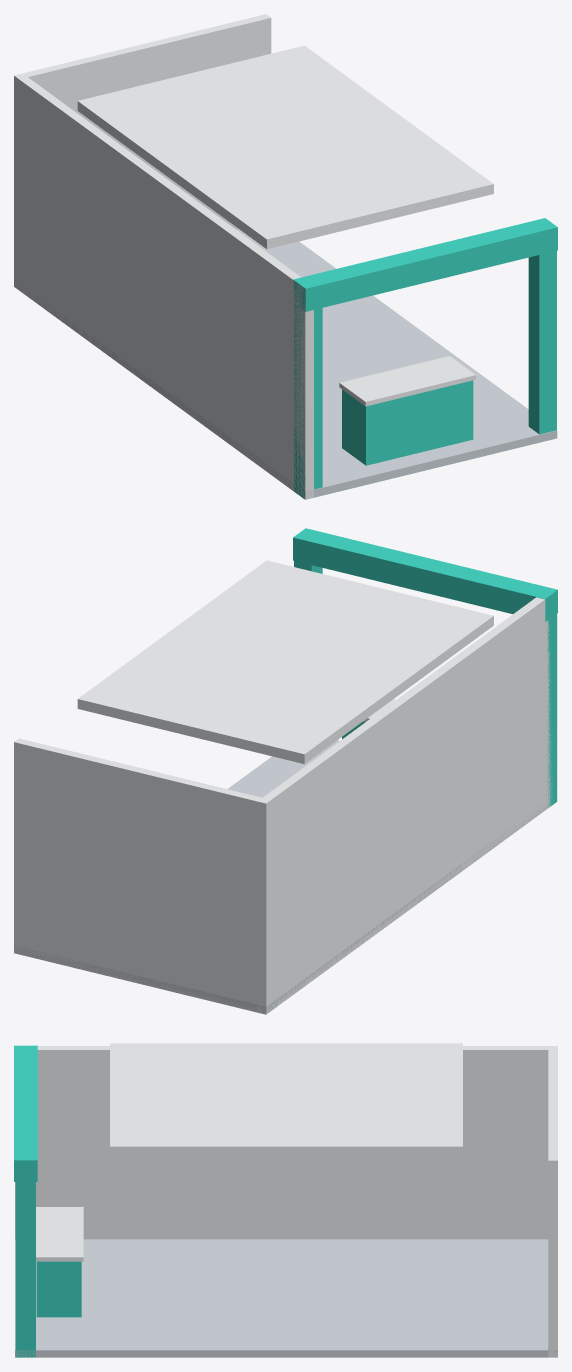
3 views of the same model, one above another, from view 1: azimuth 30°, elevation 25°; view 2: azimuth 150°, elevation 25°; view 3: azimuth 270°, elevation 25° (orthographic). The views are drawn at different scales.
Visible parts, largest first — view 1: Exhibition Booth Concept; view 2: Exhibition Booth Concept; view 3: Exhibition Booth Concept.
Part boxes in pixels (x1,y1,x2,y2): Exhibition Booth Concept: (14,14,557,499); Exhibition Booth Concept: (14,528,557,1014); Exhibition Booth Concept: (14,1043,557,1357).
Size of the model in its own units: 4 by 3.34 by 8.01.
